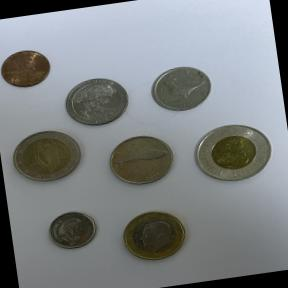coin: (184, 114, 282, 195), (111, 200, 200, 271), (2, 124, 88, 194), (96, 128, 182, 198), (58, 68, 138, 132), (0, 40, 62, 99), (40, 203, 106, 258)
